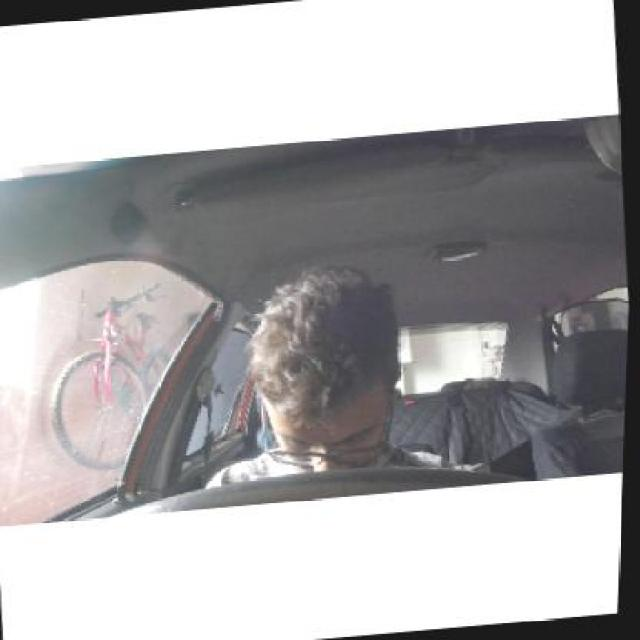drowsy: (249, 294, 403, 461)
